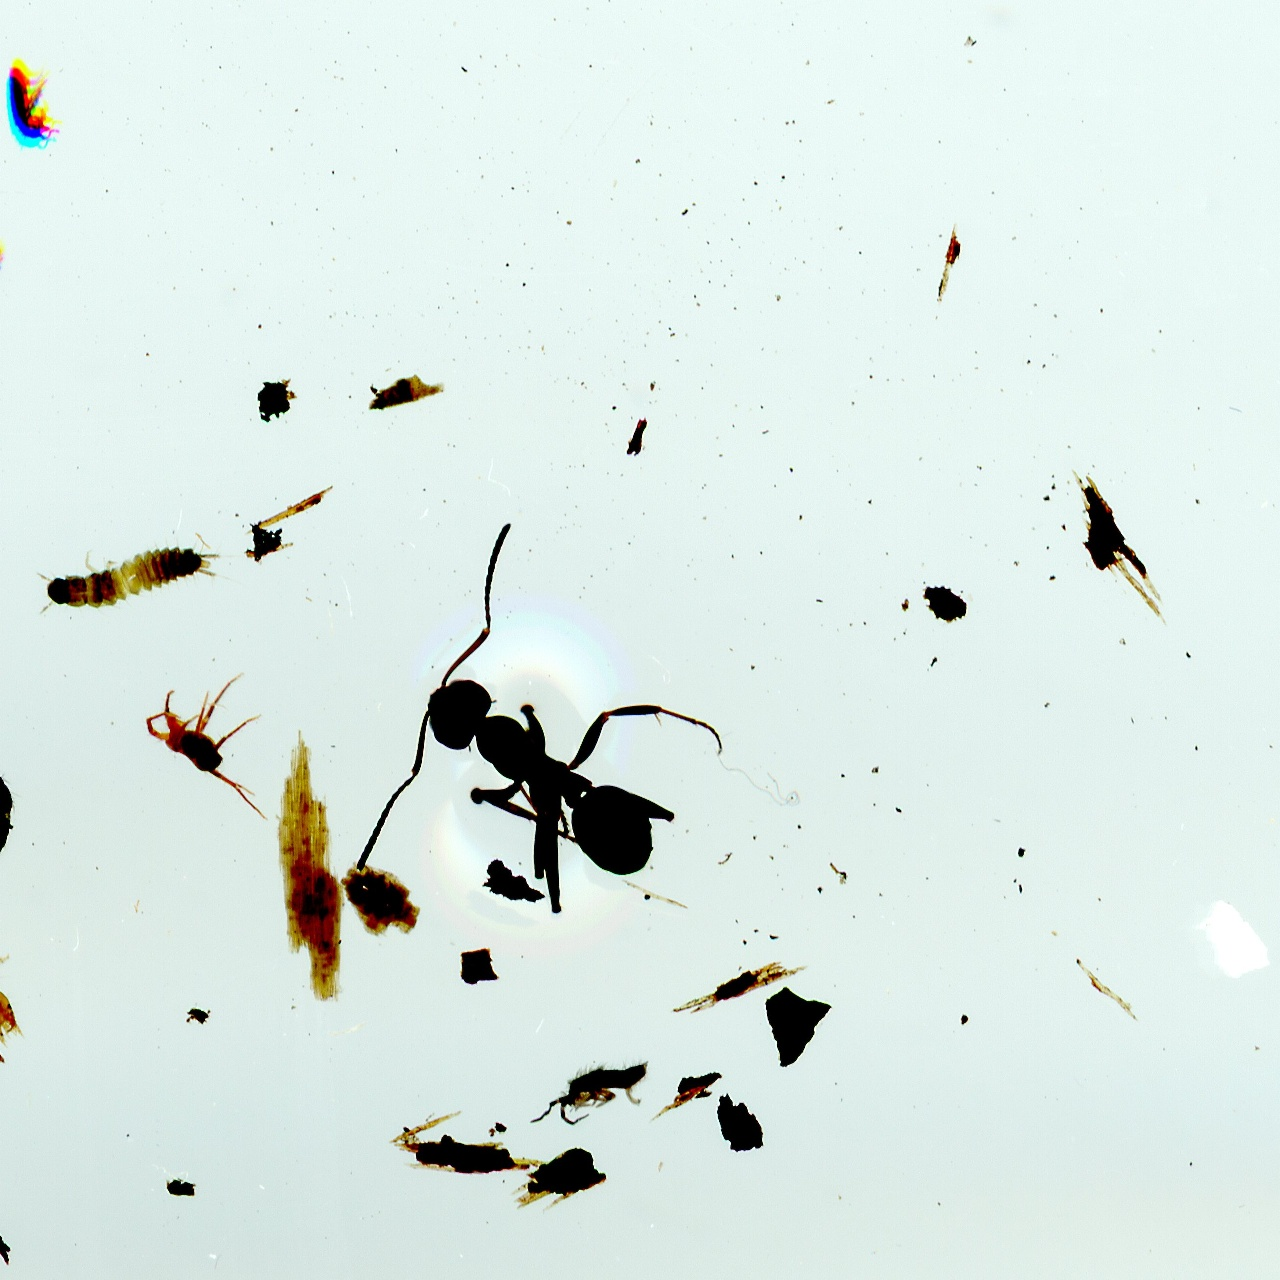arthropod: (346, 518, 731, 918), (20, 517, 254, 631), (142, 668, 274, 826), (0, 808, 67, 1062), (513, 1041, 666, 1148), (0, 50, 64, 162), (0, 764, 22, 870)
